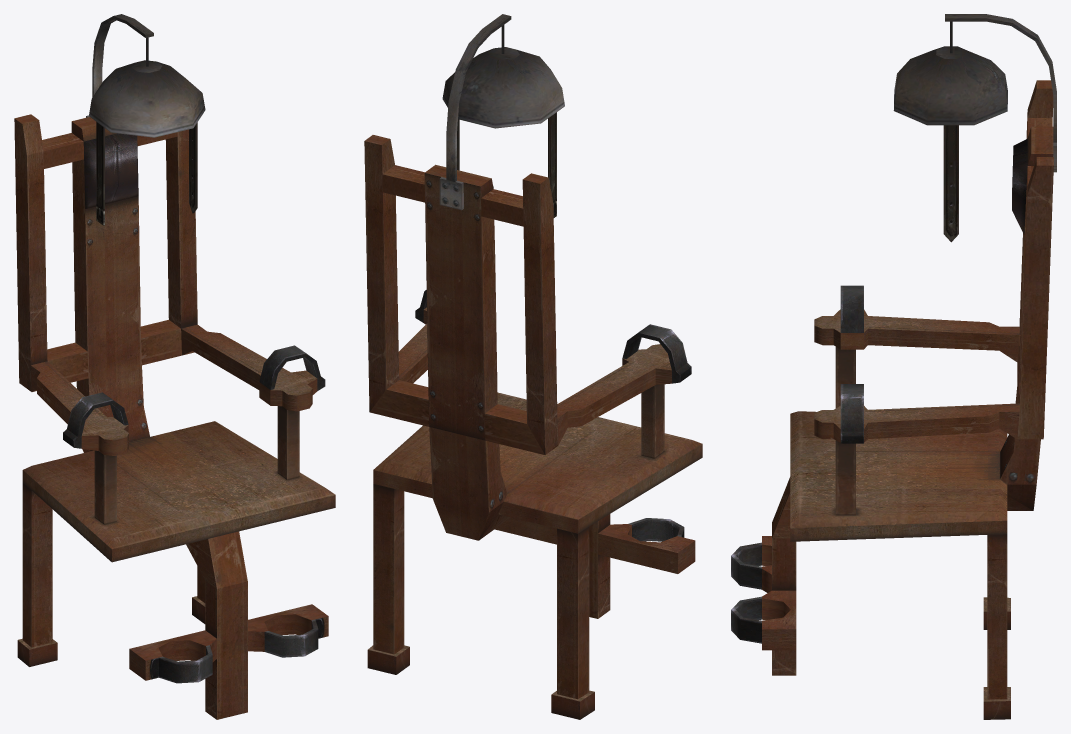
File: equipment_e.fbx
3 views of the same model, side by side, from view 1: azimuth 30°, elevation 25°; view 2: azimuth 150°, elevation 25°; view 3: azimuth 270°, elevation 25° (orthographic). The views are drawn at different scales.
Parts seen in each view (by area): view 1: equipment_e; view 2: equipment_e; view 3: equipment_e.
Boxes of the visible parts, left/top/right/bottom form: equipment_e: left=14, top=14, right=335, bottom=719; equipment_e: left=364, top=14, right=702, bottom=719; equipment_e: left=731, top=14, right=1056, bottom=719.
Size of the model in its own units: 53.95 by 128 by 57.78.
1 material, 1 textured.
